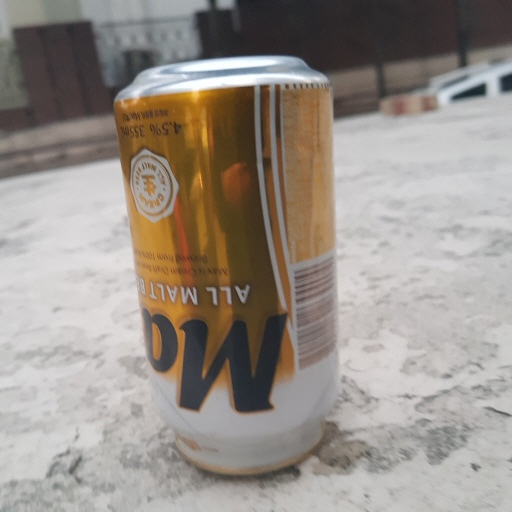Metal_0: (114, 59, 343, 475)
